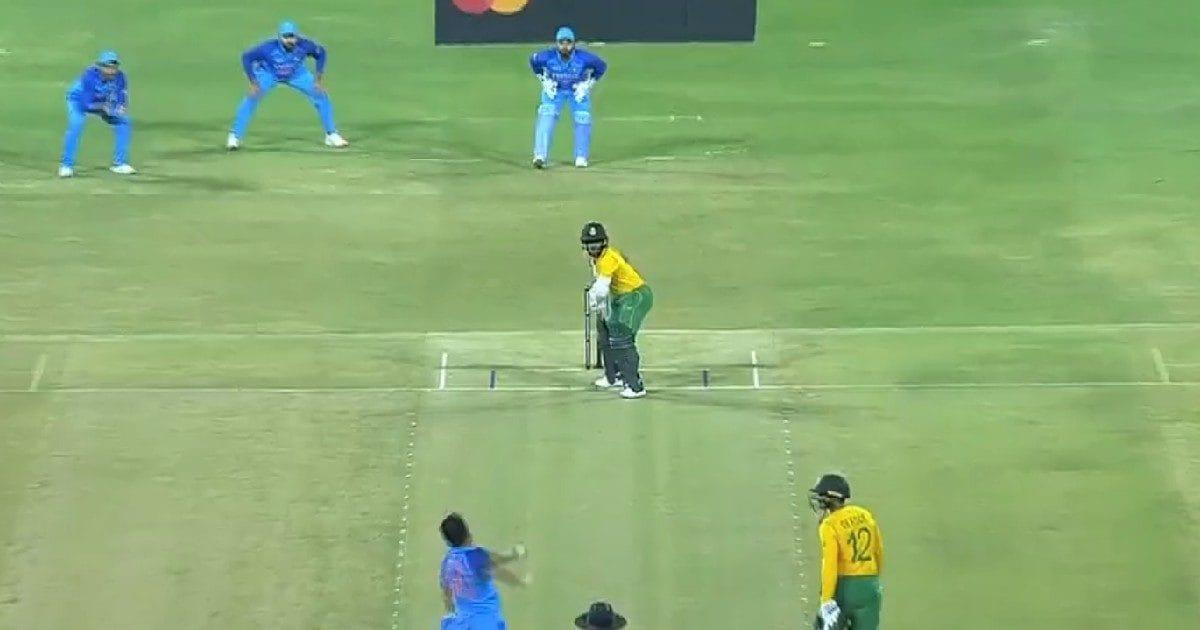batsman: (575, 221, 656, 402)
